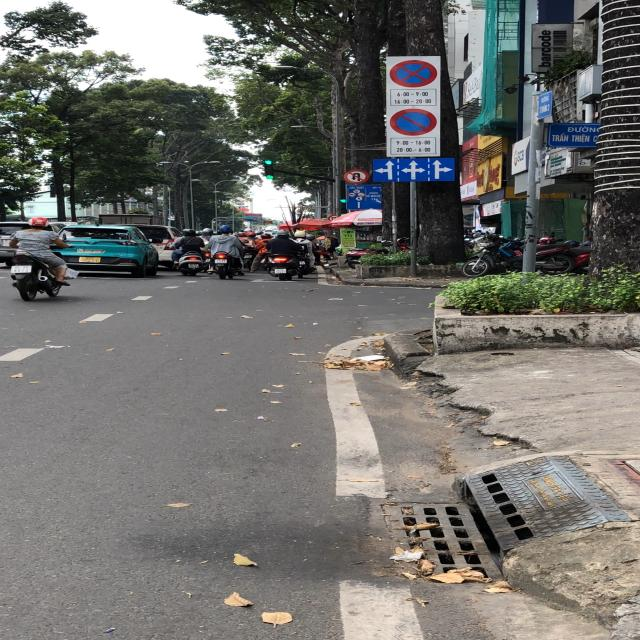Bien bao cam do xe: (389, 107, 441, 137)
Bien bao cam dung xe va do xe: (388, 56, 437, 88)
Bien bao cam quay dau xe: (342, 167, 368, 184)
